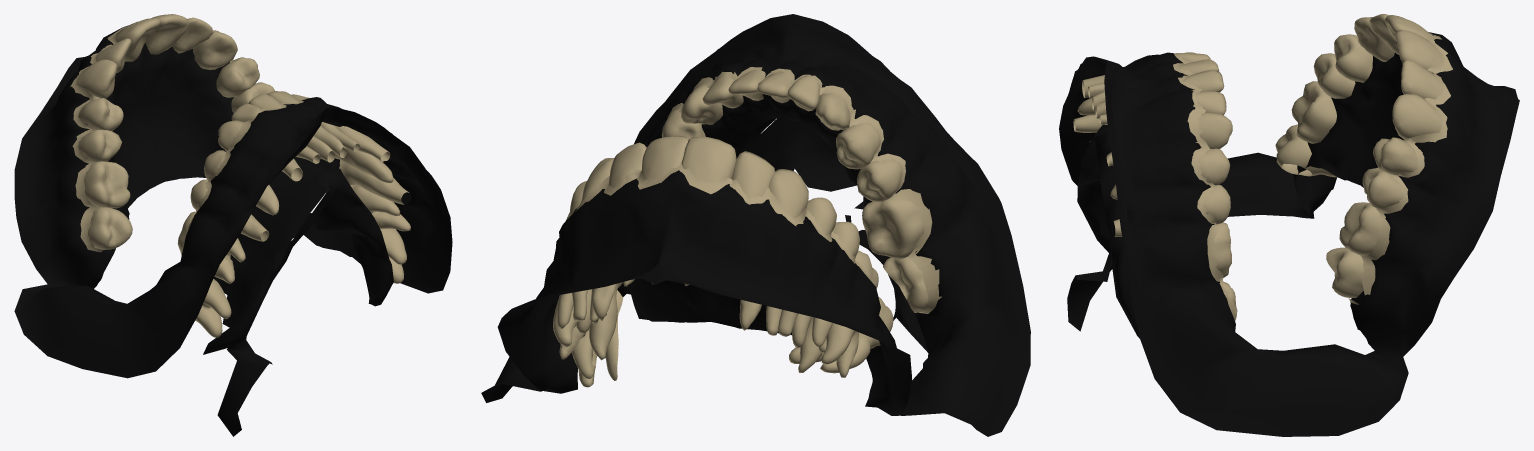
File: MOUTH_TEMP.glb
The picture shows the model from 3 angles, left to right: view 1: azimuth 30°, elevation 25°; view 2: azimuth 150°, elevation 25°; view 3: azimuth 270°, elevation 25°; orthographic projection. The views are drawn at different scales.
Visible parts, largest first — view 1: MOUTH TEMP; view 2: MOUTH TEMP; view 3: MOUTH TEMP.
Part boxes in pixels (<box>): MOUTH TEMP: <box>14,14,452,436</box>; MOUTH TEMP: <box>481,14,1030,436</box>; MOUTH TEMP: <box>1059,14,1519,436</box>.
Size of the model in its own units: 24.27 by 18.6 by 22.71.
